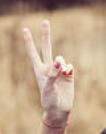front: (21, 19, 76, 119)
